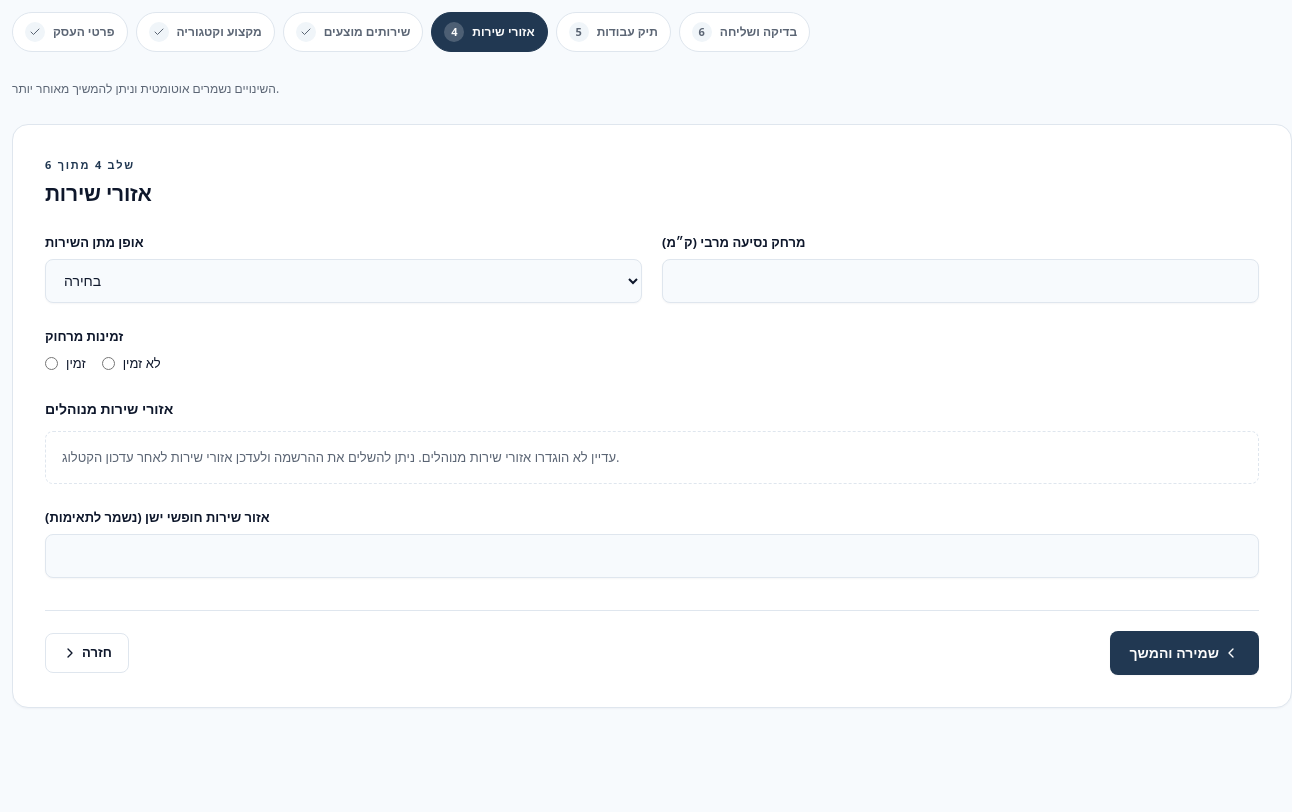
Scenario: SupplierOnboardingWizard stage validation › still blocks stage 4 when delivery and coverage values are missing
Click the button "שמירה והמשך" at (1184, 652), box [1110,630,1259,674]
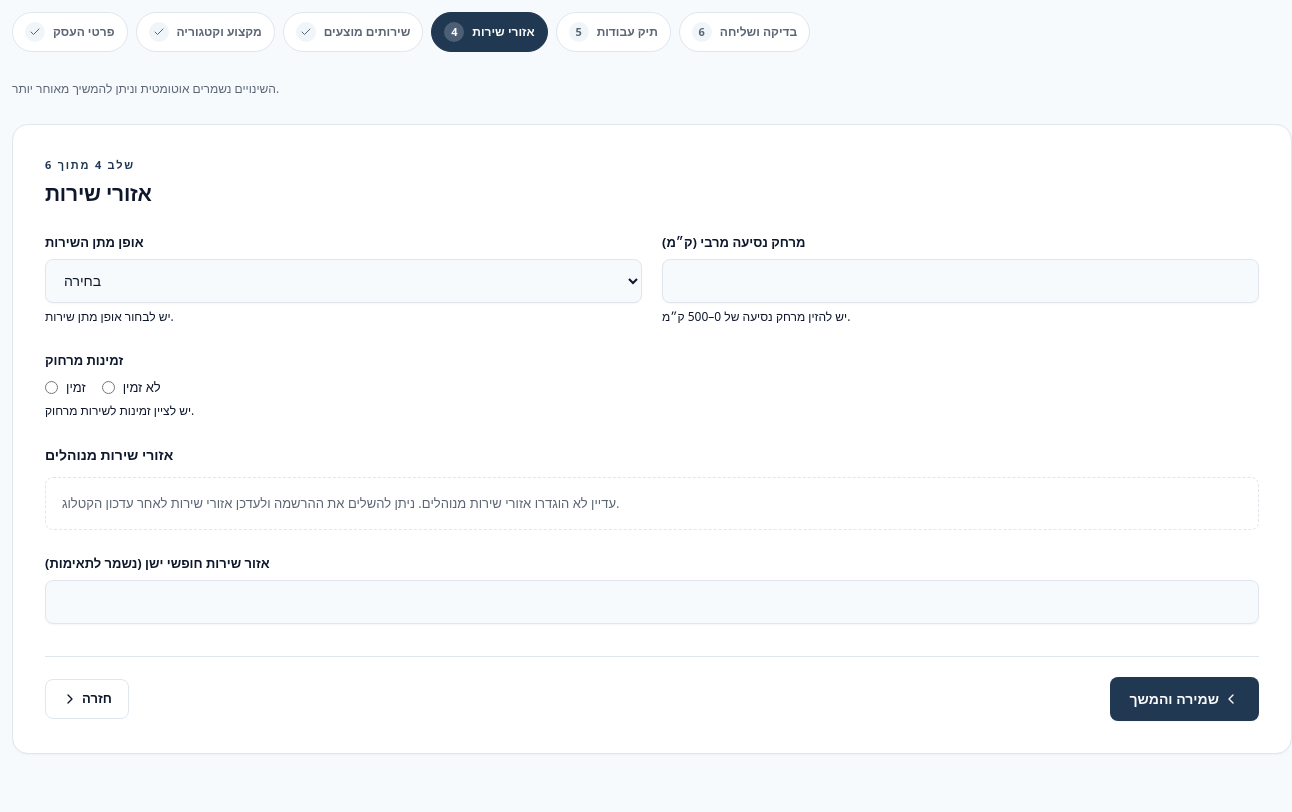
Expected: the text "יש לבחור אופן מתן שירות." is shown, [45,308,174,324]
Expected: the text "יש להזין מרחק נסיעה של 0–500 ק״מ." is shown, [662,308,850,324]
Expected: the text "יש לציין זמינות לשירות מרחוק." is shown, [45,402,194,418]
